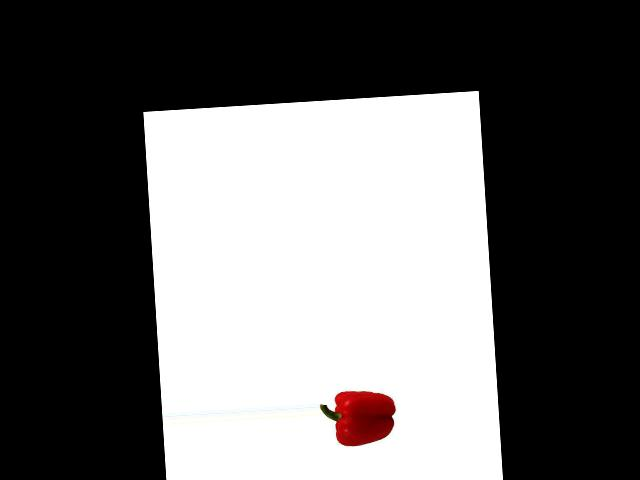bell_pepper: (319, 385, 398, 455)
